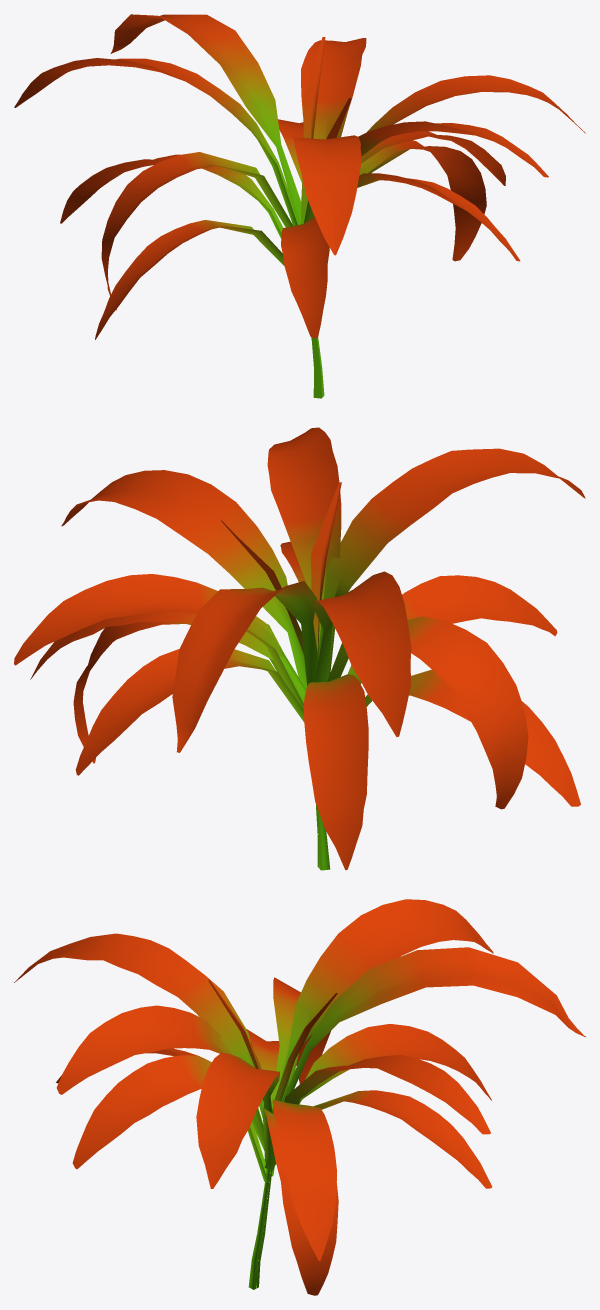
The model's file is Pink Cordyline_LOD0_Var2_sfhhN.fbx.
3 views of the same model, one above another, from view 1: azimuth 30°, elevation 25°; view 2: azimuth 150°, elevation 25°; view 3: azimuth 270°, elevation 25° (orthographic). The views are drawn at different scales.
Parts seen in each view (by area): view 1: _64f9_Var2_LOD0; view 2: _64f9_Var2_LOD0; view 3: _64f9_Var2_LOD0.
Part boxes in pixels (<box>): _64f9_Var2_LOD0: <box>14,14,585,398</box>; _64f9_Var2_LOD0: <box>14,427,585,870</box>; _64f9_Var2_LOD0: <box>14,899,585,1295</box>.
Size of the model in its own units: 96.69 by 63.28 by 103.
